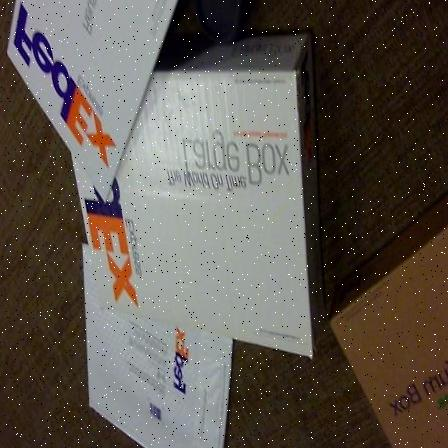Amazon: (73, 84, 281, 312), (3, 0, 184, 193), (84, 316, 214, 448)
